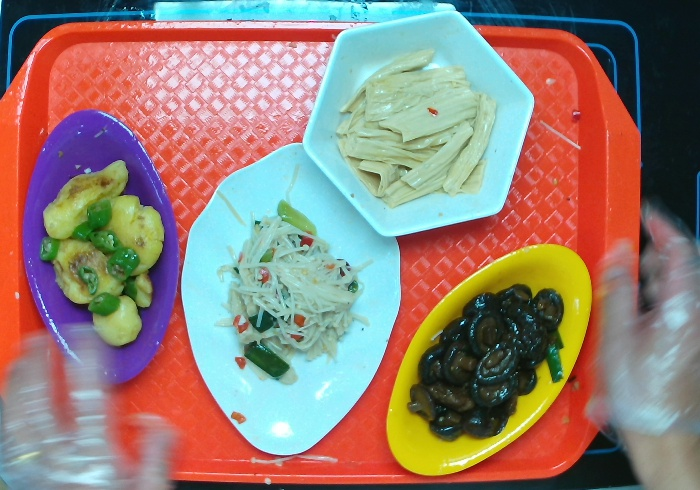RJxy-Bai_Ye_Pan: (178, 139, 400, 463)
RJxy-Fen_Hong_Tuo_Yuan: (18, 103, 185, 391)
RJxy-Huang_Se_Tuo_Yuan: (379, 239, 596, 480)
RJxy-Liu_Jiao_Wan: (300, 6, 540, 241)
